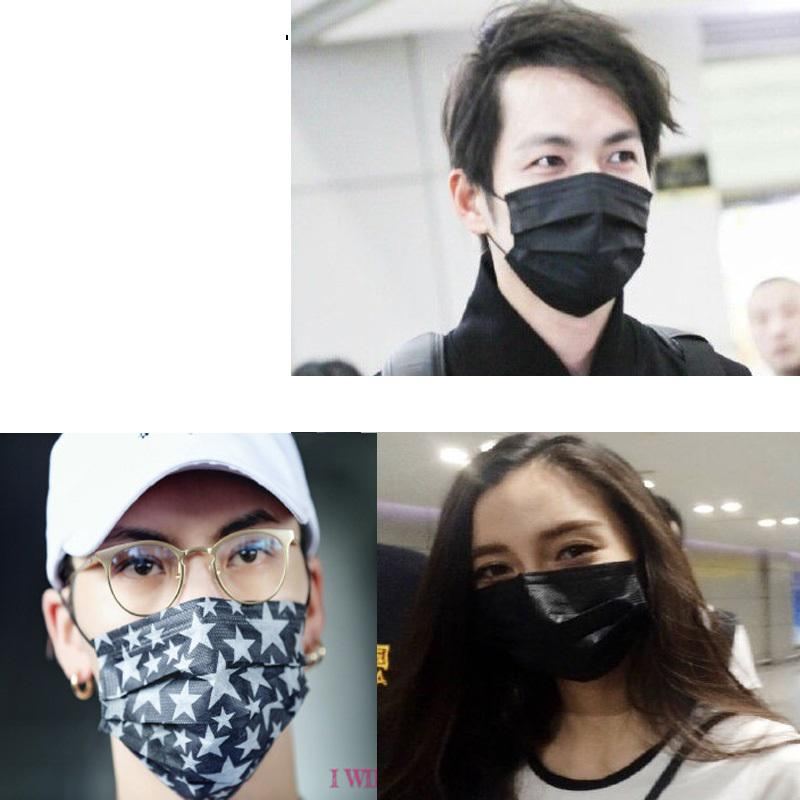OK: (91, 492, 316, 776), (469, 473, 633, 684), (500, 102, 651, 312), (750, 288, 798, 366)
